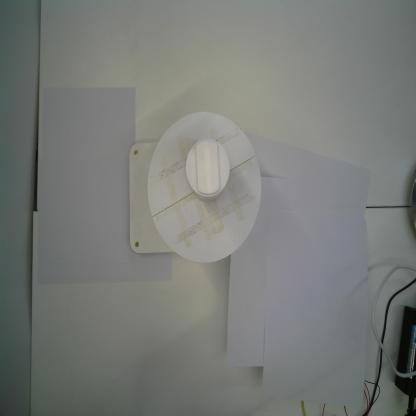Canned Food: (184, 136, 234, 202)
